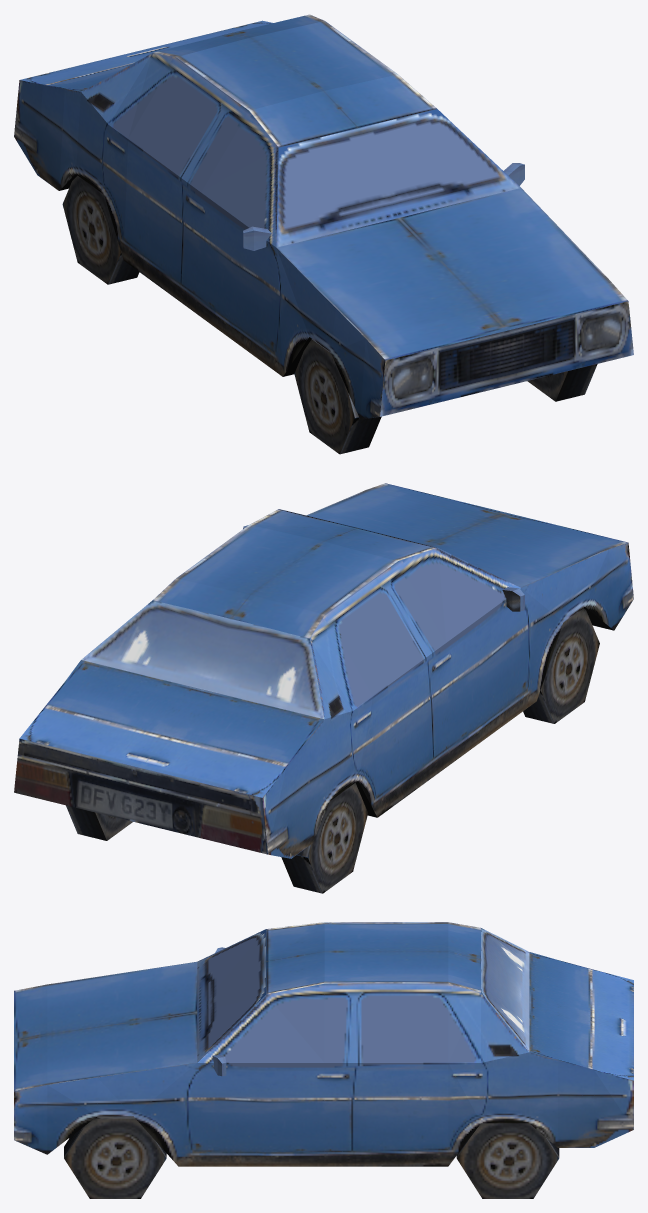
The model's file is Car02.obj.
3 views of the same model, one above another, from view 1: azimuth 30°, elevation 25°; view 2: azimuth 150°, elevation 25°; view 3: azimuth 270°, elevation 25° (orthographic). The views are drawn at different scales.
Visible parts, largest first — view 1: Car02.Chassis, Car02.Wheels.Fwd, Car02.Wheels.Bwd; view 2: Car02.Chassis, Car02.Wheels.Bwd, Car02.Wheels.Fwd; view 3: Car02.Chassis, Car02.Wheels.Fwd, Car02.Wheels.Bwd.
Part boxes in pixels (x1,y1,x2,y2): Car02.Chassis: (14, 14, 633, 419); Car02.Wheels.Fwd: (294, 339, 597, 454); Car02.Wheels.Bwd: (62, 175, 139, 284); Car02.Chassis: (14, 483, 633, 858); Car02.Wheels.Bwd: (66, 783, 367, 893); Car02.Wheels.Fwd: (523, 608, 599, 723); Car02.Chassis: (14, 922, 633, 1166); Car02.Wheels.Fwd: (64, 1116, 166, 1198); Car02.Wheels.Bwd: (456, 1123, 559, 1198).
Bounding box in the file's own units: 2.49 × 1.96 × 5.62.
